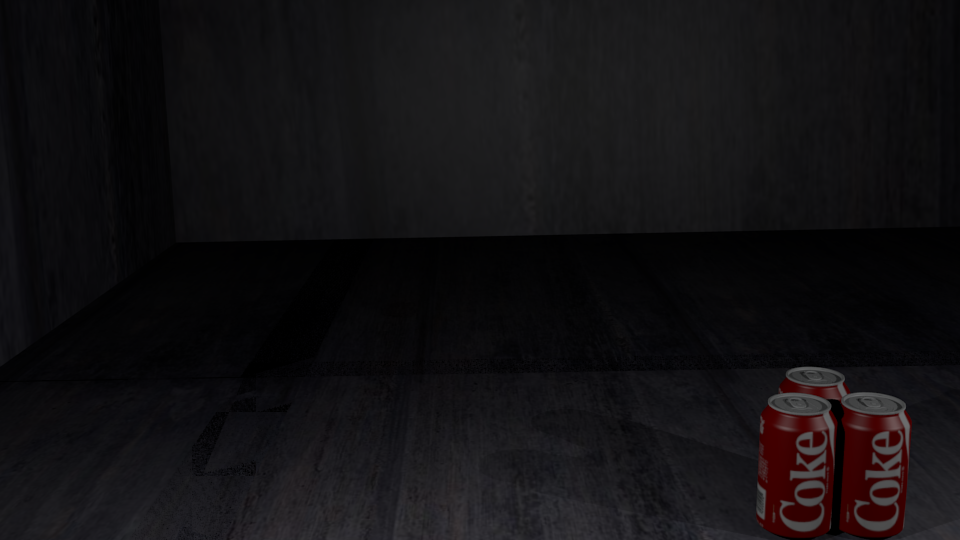cola_can: (759, 393, 836, 534), (833, 393, 911, 532), (781, 367, 849, 499)
